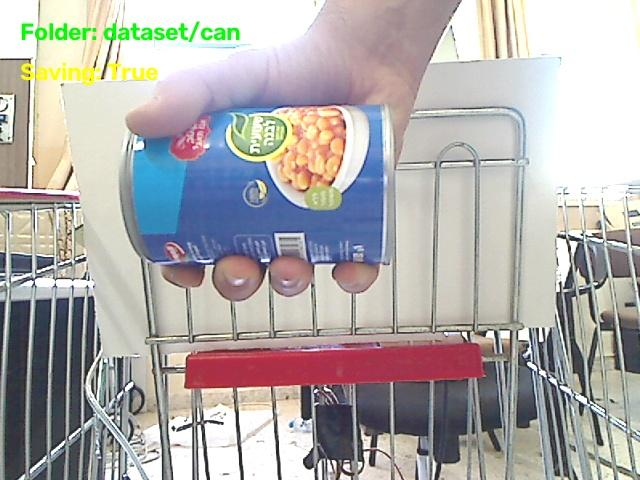can: (120, 105, 394, 263)
